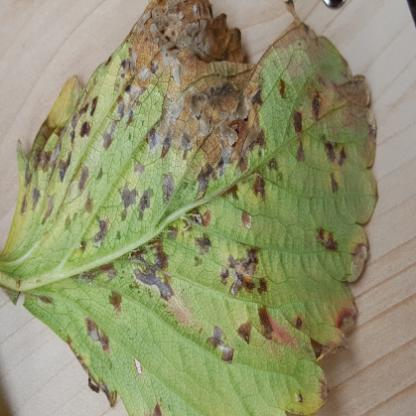Strawberry_Angular_LeafSpot: (0, 0, 379, 415)
